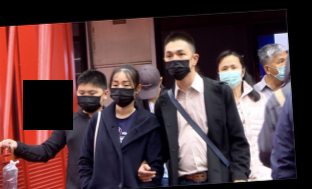with_mask: (164, 47, 192, 81), (109, 77, 135, 108), (76, 86, 102, 113), (217, 62, 242, 89), (273, 54, 289, 81)
